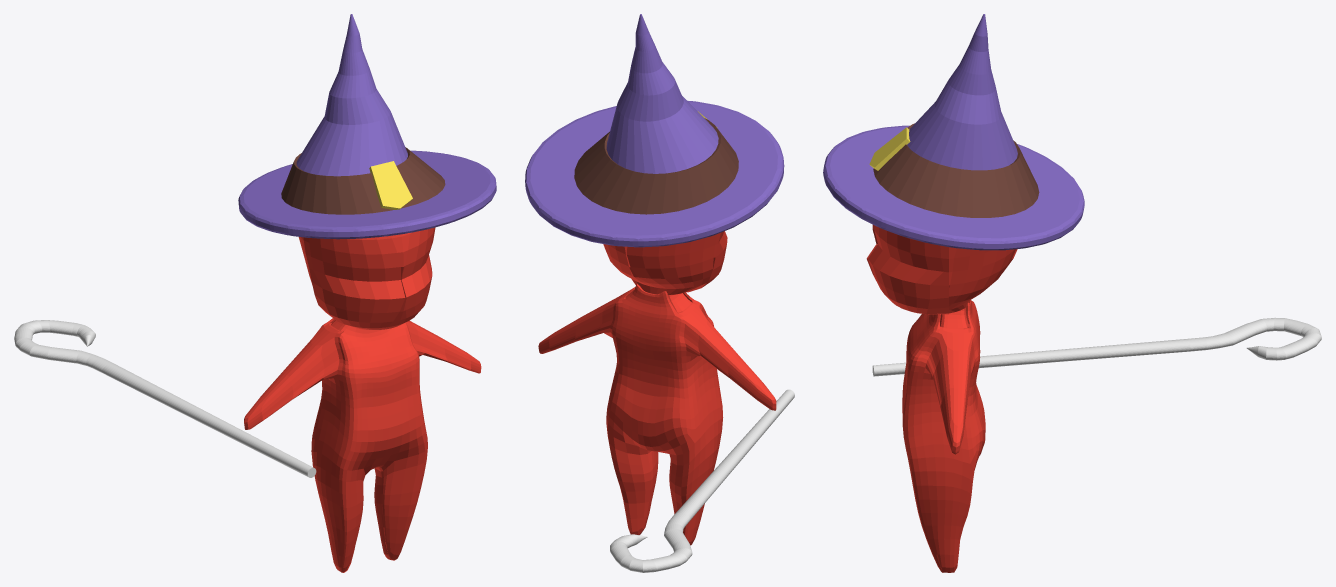
The model's file is boss-new.fbx.
3 views of the same model, side by side, from view 1: azimuth 30°, elevation 25°; view 2: azimuth 150°, elevation 25°; view 3: azimuth 270°, elevation 25° (orthographic).
Parts seen in each view (by area): view 1: Sphere.001, Circle.001; view 2: Sphere.001, Circle.001; view 3: Sphere.001, Circle.001.
Part boxes in pixels (x1,y1,x2,y2): Sphere.001: (238,14,496,572); Circle.001: (14,320,316,477); Sphere.001: (525,14,784,545); Circle.001: (610,389,794,572); Sphere.001: (823,14,1084,572); Circle.001: (872,317,1321,376).
Bounding box in the file's own units: 128 × 216 × 178.
